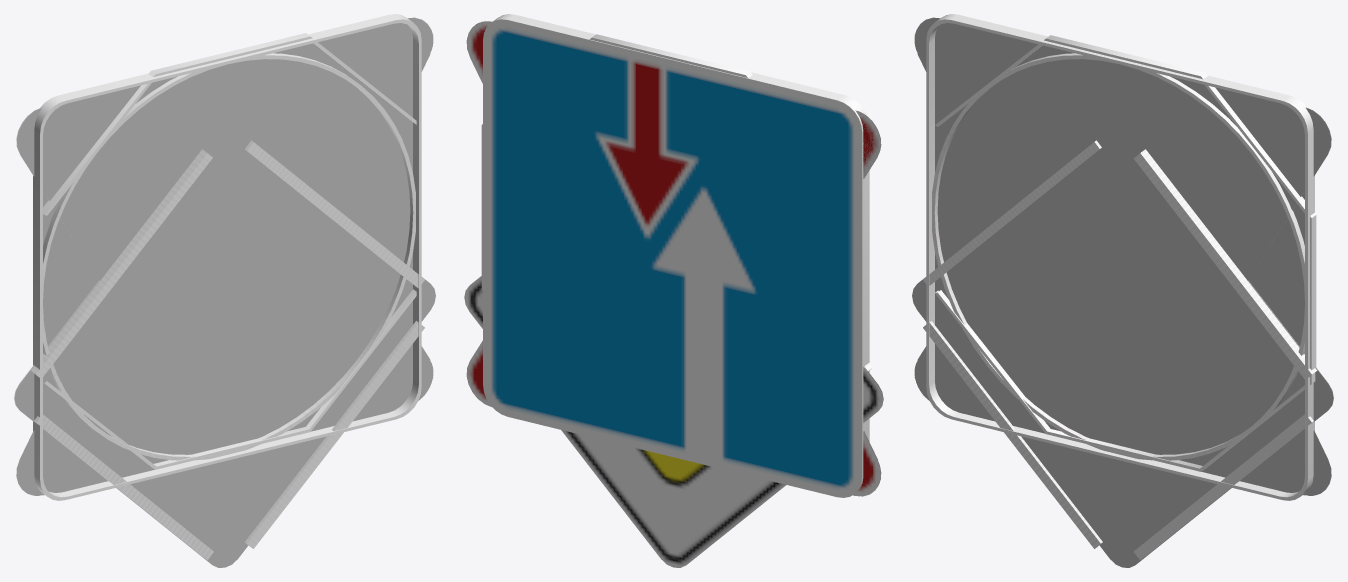
File: PrioritySigns.fbx
The picture shows the model from 3 angles, left to right: view 1: azimuth 30°, elevation 25°; view 2: azimuth 150°, elevation 25°; view 3: azimuth 330°, elevation 25°; orthographic projection.
Parts seen in each view (by area): view 1: Sign2.3.7_L2., Sign2.3.1_L2., Sign2.3.1_L0., Sign2.1_L0, Sign2.5_L0, Sign2.3.7_L0., Sign2.7_L0, Sign2.1_L2, Sign2.6_L0, Sign2.1_L1; view 2: Sign2.7_L1, Sign2.1_L0, Sign2.7_L2, Sign2.1_L2, Sign2.7_L0, Sign2.5_L0, Sign2.4_L1., Sign2.3.1_L2., Sign2.3.1_L0., Sign2.4_L0.; view 3: Sign2.3.7_L2., Sign2.3.7_L0., Sign2.3.1_L2., Sign2.5_L0, Sign2.1_L0, Sign2.1_L2, Sign2.7_L0, Sign2.6_L0, Sign2.3.1_L0., Sign2.1_L1.
Boxes of the visible parts, <box> form: Sign2.3.7_L2.: <box>17,19,433,449</box>; Sign2.3.1_L2.: <box>16,63,433,495</box>; Sign2.3.1_L0.: <box>17,63,433,495</box>; Sign2.1_L0: <box>14,140,435,567</box>; Sign2.5_L0: <box>43,33,416,469</box>; Sign2.3.7_L0.: <box>17,18,433,449</box>; Sign2.7_L0: <box>33,14,421,500</box>; Sign2.1_L2: <box>14,219,435,567</box>; Sign2.6_L0: <box>43,53,415,460</box>; Sign2.1_L1: <box>14,284,435,567</box>; Sign2.7_L1: <box>483,19,862,497</box>; Sign2.1_L0: <box>465,277,883,567</box>; Sign2.7_L2: <box>483,20,862,496</box>; Sign2.1_L2: <box>464,276,883,567</box>; Sign2.7_L0: <box>491,14,869,493</box>; Sign2.5_L0: <box>481,34,752,290</box>; Sign2.4_L1.: <box>466,21,880,178</box>; Sign2.3.1_L2.: <box>467,340,880,495</box>; Sign2.3.1_L0.: <box>467,345,881,496</box>; Sign2.4_L0.: <box>467,21,881,170</box>; Sign2.3.7_L2.: <box>914,20,1331,449</box>; Sign2.3.7_L0.: <box>914,18,1330,449</box>; Sign2.3.1_L2.: <box>914,63,1331,495</box>; Sign2.5_L0: <box>935,35,1316,471</box>; Sign2.1_L0: <box>912,140,1332,567</box>; Sign2.1_L2: <box>912,219,1333,567</box>; Sign2.7_L0: <box>926,14,1314,500</box>; Sign2.6_L0: <box>932,53,1304,460</box>; Sign2.3.1_L0.: <box>914,63,1330,495</box>; Sign2.1_L1: <box>912,239,1333,567</box>.
Bounding box in the file's own units: 0.9093 × 1.06 × 0.0274.
